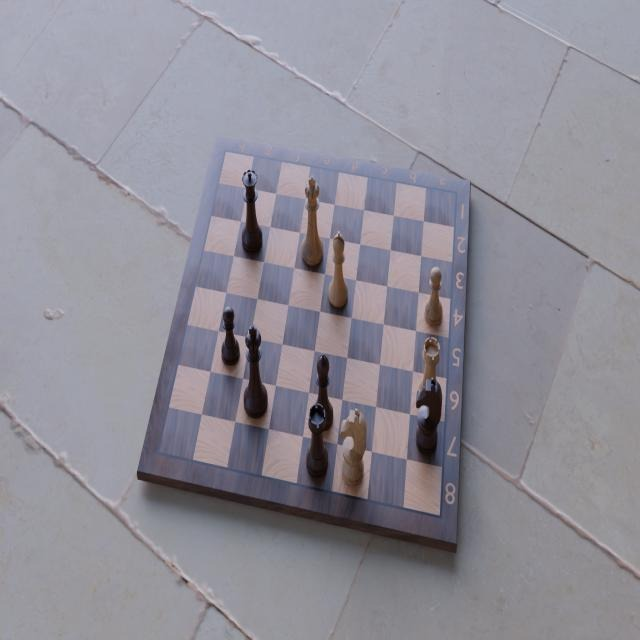black-bishop: (310, 353, 334, 439)
black-king: (242, 321, 270, 422)
black-knight: (415, 380, 443, 458)
black-pawn: (218, 306, 241, 366)
black-queen: (240, 169, 264, 257)
black-rook: (305, 401, 331, 479)
white-bishop: (326, 229, 349, 311)
white-king: (299, 170, 326, 269)
white-knight: (337, 410, 367, 489)
white-pawn: (424, 265, 447, 330)
white-rook: (417, 332, 443, 424)
